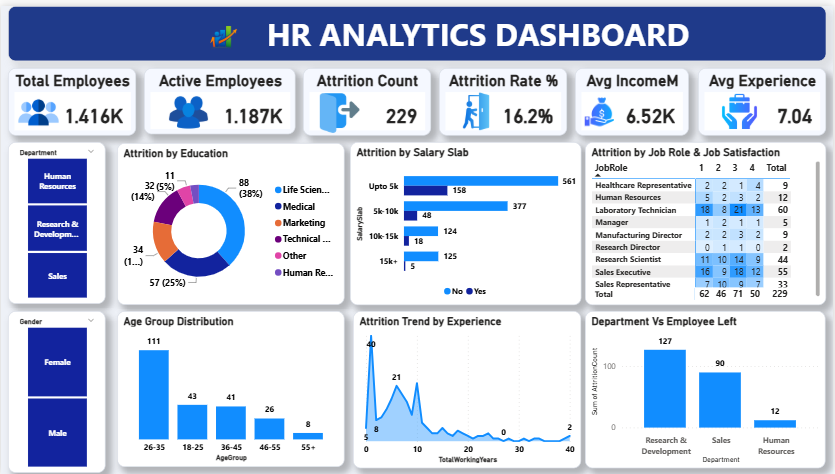

The dashboard page shown, as its layout file describes it:
{"tool":"powerbi","page":{"name":"Page 1","canvas":[1280,720],"ordinal":0},"visuals":[{"type":"textbox","box":[10,0,1259,85],"z":0},{"type":"image","box":[242.4,0,205.5,102],"z":1000},{"type":"cardVisual","title":"Total Employees","fields":{"Data":["CountNonNull(HR_Analytics.EmpID)"]},"box":[10,95,197,104],"z":2000},{"type":"cardVisual","title":"Active Employees","fields":{"Data":["CountNonNull(HR_Analytics.EmployeeCount)"]},"box":[220.1,95.7,233.5,102.5],"z":3000},{"type":"cardVisual","title":"Attrition Count","fields":{"Data":["Sum(HR_Analytics.AttritionCount)"]},"box":[465.3,95.7,196.5,104.1],"z":4000},{"type":"cardVisual","title":"Attrition Rate %","fields":{"Data":["Key Measures.Attrition Rate"]},"box":[673.6,95.7,196.5,104.1],"z":5000},{"type":"cardVisual","title":"Avg IncomeM","fields":{"Data":["Avg(HR_Analytics.MonthlyIncome)"]},"box":[883.6,95.7,174.7,104.1],"z":6000},{"type":"cardVisual","title":"Avg Experience","fields":{"Data":["Avg(HR_Analytics.YearsAtCompany)"]},"box":[1071.7,95.7,196.5,104.1],"z":7000},{"type":"image","box":[8.4,127.7,99.1,72.2],"z":8000},{"type":"image","box":[238.5,127.7,99.1,72.2],"z":9000},{"type":"image","box":[478.7,129.3,85.7,70.6],"z":10000},{"type":"image","box":[687,126,85.7,72.2],"z":11000},{"type":"image","box":[883.6,136.1,75.6,55.4],"z":12000},{"type":"image","box":[1086.8,126,99.1,72.2],"z":13000},{"type":"donutChart","title":"Attrition by Education","fields":{"Y":["Sum(HR_Analytics.AttritionCount)"],"Category":["HR_Analytics.EducationField"]},"box":[179,210,350,249],"z":14000},{"type":"clusteredBarChart","title":"Attrition by Salary Slab","fields":{"Category":["HR_Analytics.SalarySlab"],"Y":["CountNonNull(HR_Analytics.EmpID)"],"Series":["HR_Analytics.Attrition"]},"box":[537,209.8,355.7,251],"z":15000},{"type":"pivotTable","title":"Attrition by Job Role & Job Satisfaction","fields":{"Rows":["HR_Analytics.JobRole"],"Columns":["HR_Analytics.JobSatisfaction"],"Values":["Sum(HR_Analytics.AttritionCount)"]},"box":[898,209.8,371,251],"z":16000},{"type":"clusteredColumnChart","title":"Age Group Distribution","fields":{"Category":["HR_Analytics.AgeGroup"],"Y":["Sum(HR_Analytics.AttritionCount)"]},"box":[178.6,469.1,350.1,239.5],"z":17000},{"type":"areaChart","title":"Attrition Trend by Experience","fields":{"Category":["HR_Analytics.TotalWorkingYears"],"Y2":["Sum(HR_Analytics.AttritionCount)"]},"box":[541.4,469.1,351.5,242.4],"z":19000},{"type":"columnChart","title":"Department Vs Employee Left","fields":{"Category":["HR_Analytics.Department"],"Y":["Sum(HR_Analytics.AttritionCount)"]},"box":[898.6,469.1,369.9,242.4],"z":20000},{"type":"slicer","fields":{"Values":["HR_Analytics.Department"]},"box":[11.3,209.8,150.2,249.4],"z":21000},{"type":"slicer","fields":{"Values":["HR_Analytics.Gender"]},"box":[11.3,469.1,150.2,249.4],"z":22000}]}

Visuals, with their boxes in screenshot pixels (x1, y1, x2, y2), scaled from the page's 1280x720 canvas onto the 835x474 screenshot:
textbox: (7, 0, 828, 56)
image: (158, 0, 292, 67)
"Total Employees" cardVisual: (7, 63, 135, 131)
"Active Employees" cardVisual: (144, 63, 296, 130)
"Attrition Count" cardVisual: (304, 63, 432, 132)
"Attrition Rate %" cardVisual: (439, 63, 568, 132)
"Avg IncomeM" cardVisual: (576, 63, 690, 132)
"Avg Experience" cardVisual: (699, 63, 827, 132)
image: (5, 84, 70, 132)
image: (156, 84, 220, 132)
image: (312, 85, 368, 132)
image: (448, 83, 504, 130)
image: (576, 90, 626, 126)
image: (709, 83, 774, 130)
"Attrition by Education" donutChart: (117, 138, 345, 302)
"Attrition by Salary Slab" clusteredBarChart: (350, 138, 582, 303)
"Attrition by Job Role & Job Satisfaction" pivotTable: (586, 138, 828, 303)
"Age Group Distribution" clusteredColumnChart: (117, 309, 345, 466)
"Attrition Trend by Experience" areaChart: (353, 309, 582, 468)
"Department Vs Employee Left" columnChart: (586, 309, 827, 468)
slicer - HR_Analytics.Department: (7, 138, 105, 302)
slicer - HR_Analytics.Gender: (7, 309, 105, 473)
